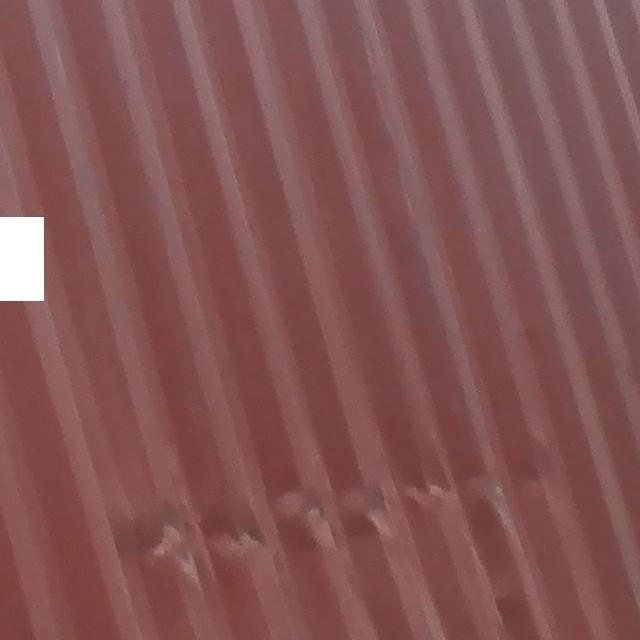dent: (94, 463, 520, 566)
